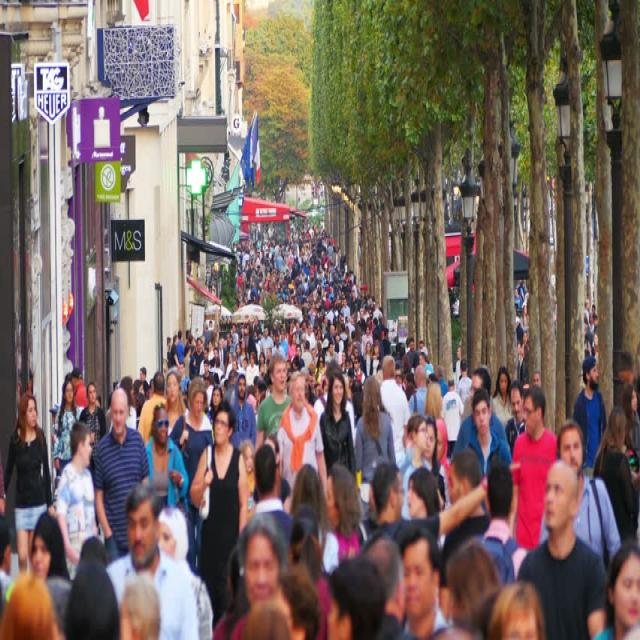body: (54, 534, 638, 640), (206, 215, 429, 369), (515, 454, 607, 638), (105, 481, 201, 640), (539, 417, 623, 576), (190, 399, 248, 629), (511, 252, 611, 380), (361, 457, 489, 552), (92, 384, 152, 568), (3, 389, 53, 576), (169, 377, 214, 576), (510, 383, 560, 556), (155, 502, 214, 640), (275, 368, 329, 517), (54, 417, 101, 583), (438, 449, 491, 591), (244, 443, 295, 573), (592, 404, 639, 545), (480, 456, 530, 587), (287, 460, 338, 577), (320, 461, 370, 579), (144, 402, 189, 518), (453, 364, 509, 456), (354, 374, 398, 490), (78, 379, 108, 537), (463, 387, 512, 480), (0, 569, 61, 640), (573, 354, 607, 478), (318, 370, 356, 478), (422, 413, 451, 551), (254, 352, 292, 452), (399, 415, 434, 521), (250, 432, 292, 519), (379, 355, 411, 465), (29, 509, 71, 587), (52, 378, 82, 478), (136, 368, 170, 445), (228, 370, 258, 450), (424, 380, 450, 467), (306, 369, 365, 407), (440, 375, 466, 460), (107, 375, 139, 436), (447, 265, 479, 323), (406, 468, 440, 521), (504, 378, 526, 458), (492, 364, 516, 431), (238, 437, 257, 520), (622, 383, 640, 457), (70, 365, 90, 423), (408, 364, 428, 417), (246, 379, 275, 413), (615, 348, 639, 388), (0, 511, 14, 573), (456, 360, 474, 404), (207, 371, 230, 405), (453, 344, 466, 393), (192, 336, 205, 376), (259, 324, 273, 361), (246, 351, 260, 388), (418, 352, 437, 379), (133, 368, 149, 400), (361, 340, 374, 379), (370, 339, 383, 376), (169, 333, 181, 368), (436, 365, 448, 399), (175, 330, 186, 366), (178, 360, 189, 393), (95, 391, 108, 417), (185, 326, 195, 358), (166, 335, 174, 369), (64, 365, 71, 383)
